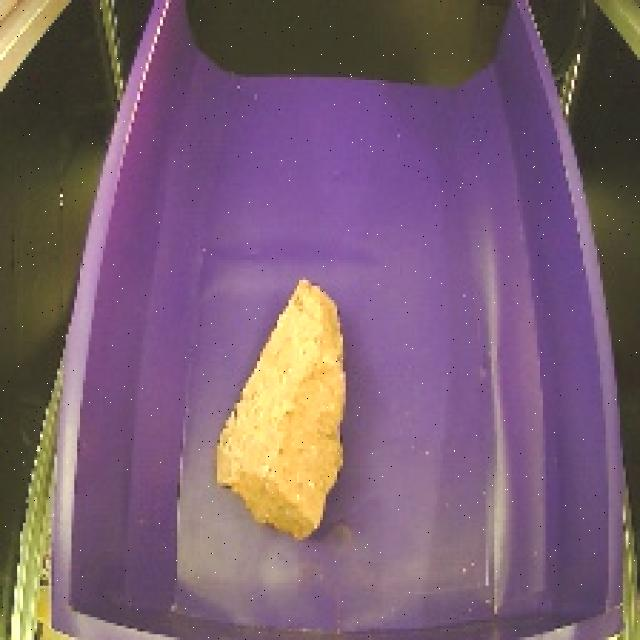brick: (212, 269, 364, 547)
